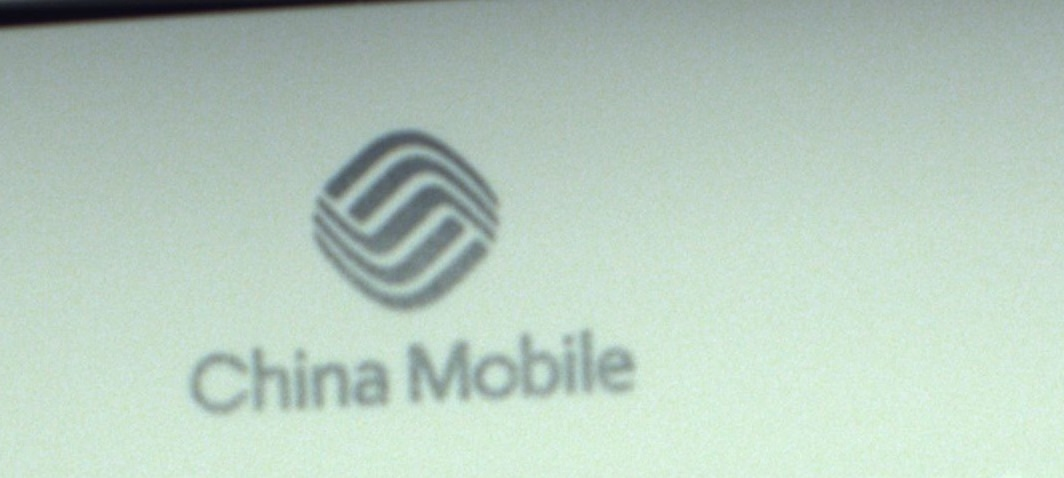AA_ChinaMobile: (159, 129, 640, 424)
